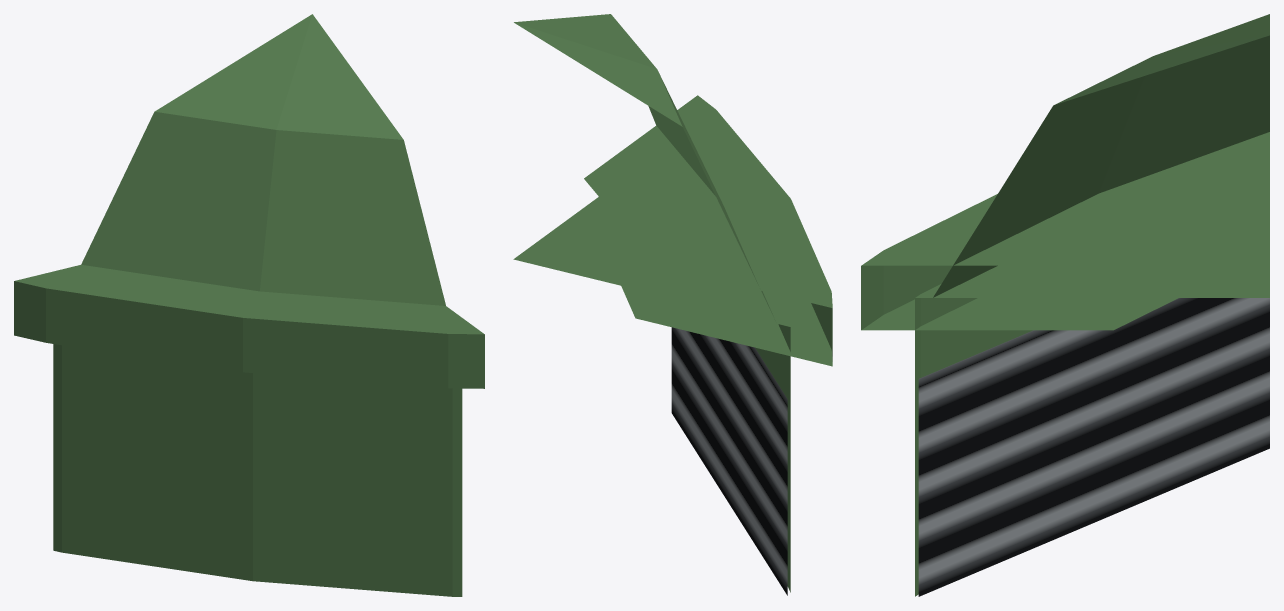
File: cell_71.obj
3 views of the same model, side by side, from view 1: azimuth 30°, elevation 25°; view 2: azimuth 150°, elevation 25°; view 3: azimuth 270°, elevation 25° (orthographic). The views are drawn at different scales.
Size of the model in its own units: 0.2293 by 0.3476 by 0.2293.
